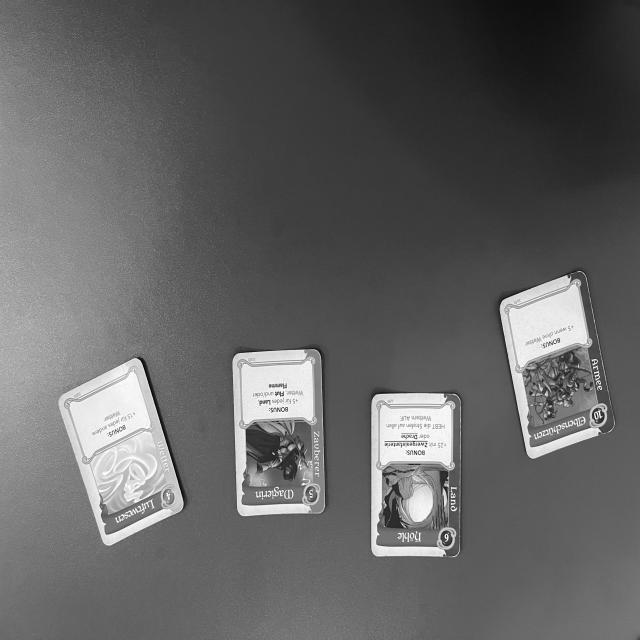Air Elemental: (56, 351, 188, 549)
Elemental Enchantress: (231, 342, 329, 521)
Elven Archers: (494, 267, 620, 462)
Underground Caverns: (368, 392, 459, 558)
